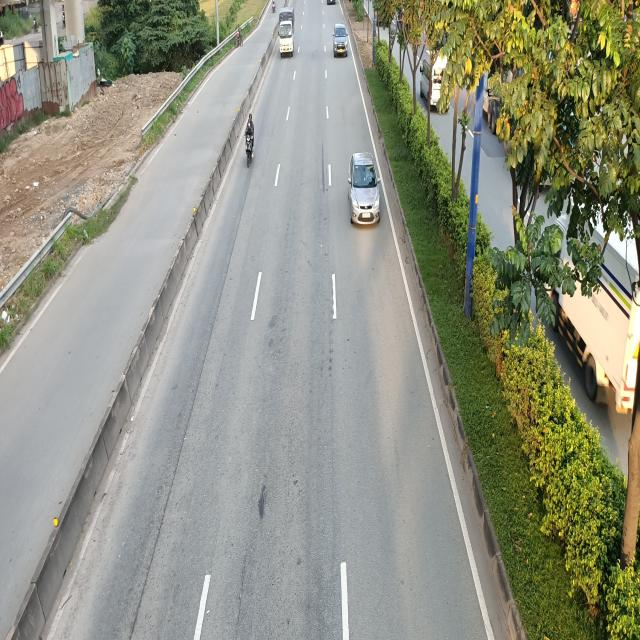car: (348, 154, 382, 226), (334, 22, 350, 56)
truck: (277, 6, 295, 59)
